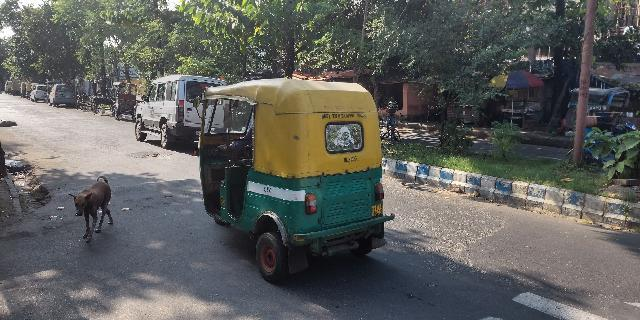Autorickshaw: (200, 66, 396, 284)
Car: (134, 73, 194, 153)
